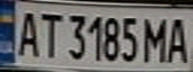1: (84, 12, 106, 62)
3: (63, 10, 87, 61)
5: (118, 14, 142, 63)
8: (103, 12, 124, 62)
A: (12, 7, 42, 58), (163, 13, 190, 64)
M: (139, 14, 172, 63)
T: (36, 9, 63, 60)
